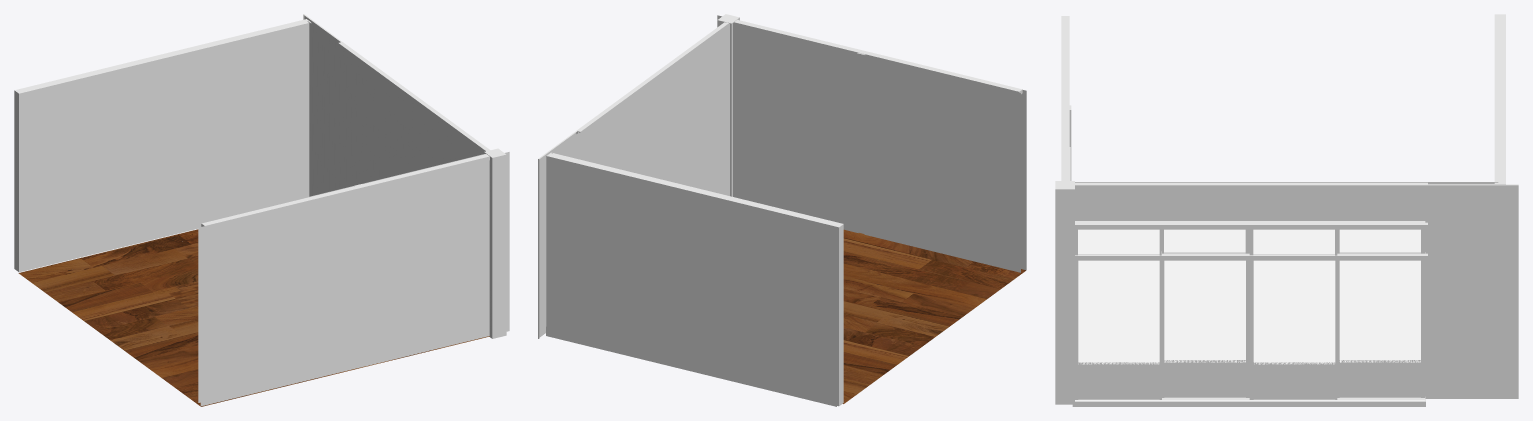
File: room.glb
3 views of the same model, side by side, from view 1: azimuth 30°, elevation 25°; view 2: azimuth 150°, elevation 25°; view 3: azimuth 270°, elevation 25° (orthographic). The views are drawn at different scales.
Parts seen in each view (by area): view 1: Object_4, Plane, Object_2, Plane.001, Plane.004; view 2: Object_4, Plane.004, Plane.003, Object_2, Plane.001, Plane; view 3: Object_4, Object_5, Plane.001.
Part boxes in pixels (x1=…): Object_4: x1=14, y1=14, x2=506, y2=366; Plane: x1=200, y1=152, x2=509, y2=406; Object_2: x1=18, y1=229, x2=489, y2=406; Plane.001: x1=307, y1=21, x2=485, y2=196; Plane.004: x1=198, y1=186, x2=353, y2=402; Object_4: x1=538, y1=14, x2=1022, y2=406; Plane.004: x1=864, y1=55, x2=1020, y2=272; Plane.003: x1=733, y1=23, x2=858, y2=232; Object_2: x1=843, y1=229, x2=1025, y2=403; Plane.001: x1=551, y1=23, x2=729, y2=195; Plane: x1=717, y1=15, x2=1026, y2=270; Object_4: x1=1055, y1=14, x2=1518, y2=406; Object_5: x1=1078, y1=229, x2=1420, y2=364; Plane.001: x1=1075, y1=182, x2=1498, y2=250.
Bounding box in the file's own units: 33.22 × 20.92 × 36.28.
Materials: 8 (7 with a texture image).
